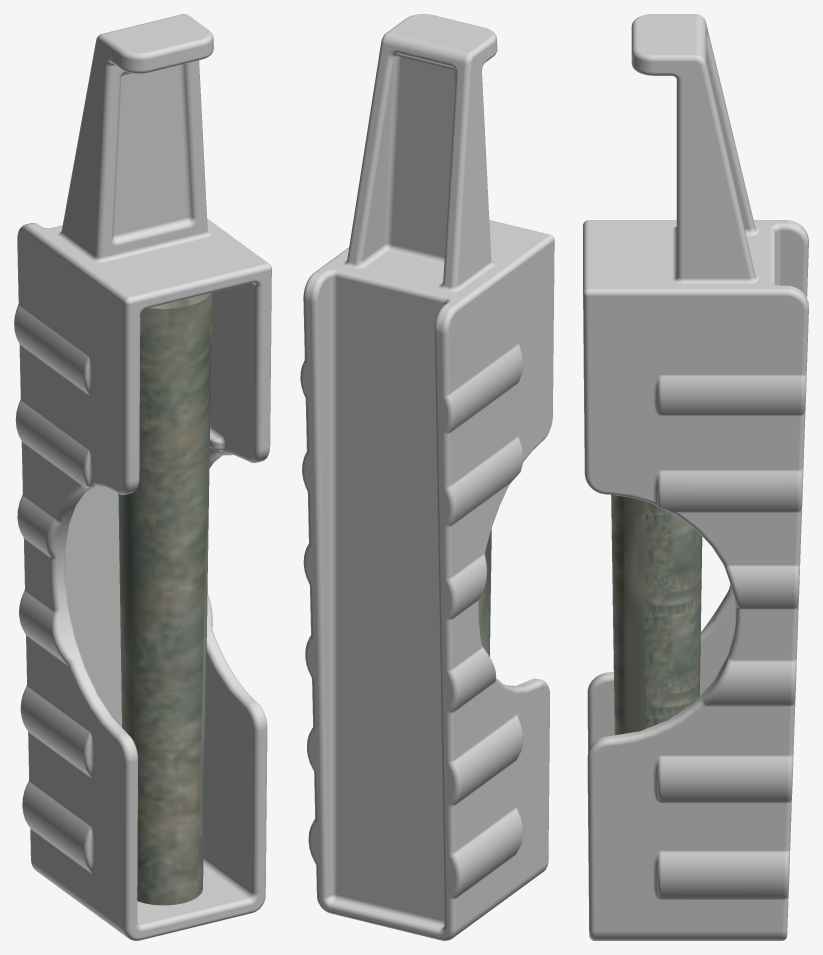
Rendered from rp-holder-1.glb.
3 views of the same model, side by side, from view 1: azimuth 30°, elevation 25°; view 2: azimuth 150°, elevation 25°; view 3: azimuth 270°, elevation 25° (orthographic). The views are drawn at different scales.
Parts seen in each view (by area): view 1: rouchpack-holder, rouchpack-single-joint; view 2: rouchpack-holder, rouchpack-single-joint; view 3: rouchpack-holder, rouchpack-single-joint.
Part boxes in pixels (box(x1,y1,x2,y2)): rouchpack-holder: box(14, 14, 271, 940); rouchpack-single-joint: box(118, 292, 213, 905); rouchpack-holder: box(300, 14, 554, 940); rouchpack-single-joint: box(478, 529, 491, 656); rouchpack-holder: box(583, 14, 808, 940); rouchpack-single-joint: box(611, 495, 702, 735).
Bounding box in the file's own units: 0.6498 × 3.44 × 0.8026.
Materials: 2 (1 with a texture image).
